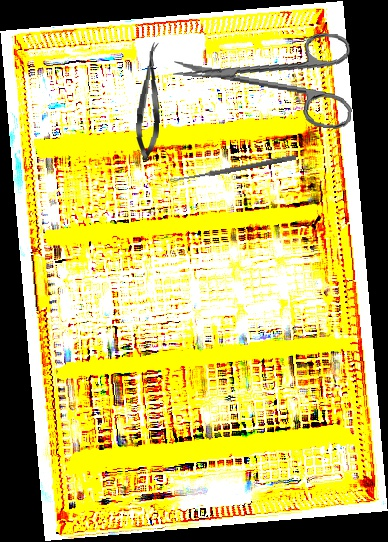Iris Scissors: (168, 17, 360, 131)
Micro Scissor: (133, 41, 166, 162)
Surgical Spoon: (169, 153, 297, 185)
